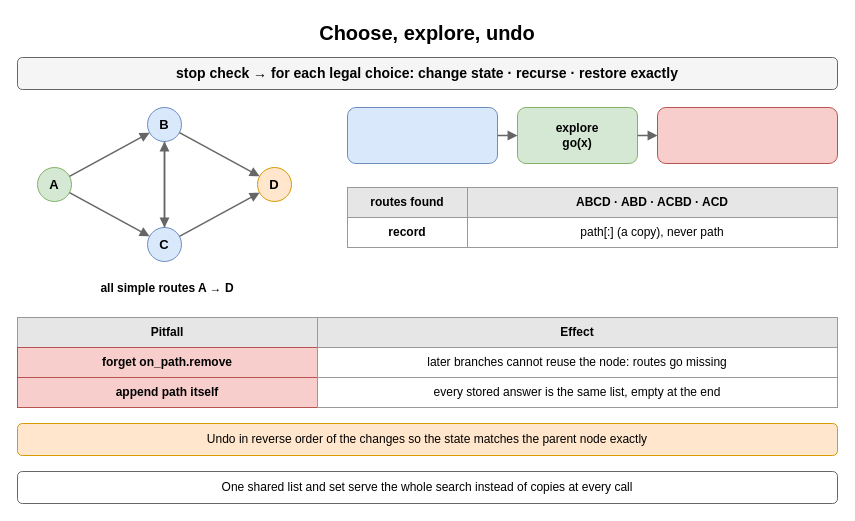
The diagram is 855 pixels wide and 521 high, and some of its shapes have lost their labels. The centre of each missing label's shape, as x and y in pixels:
"choose path.append(x) on_path.add(x)" belongs at [422,135].
"undo on_path.remove(x) path.pop()" belongs at [747,135].
